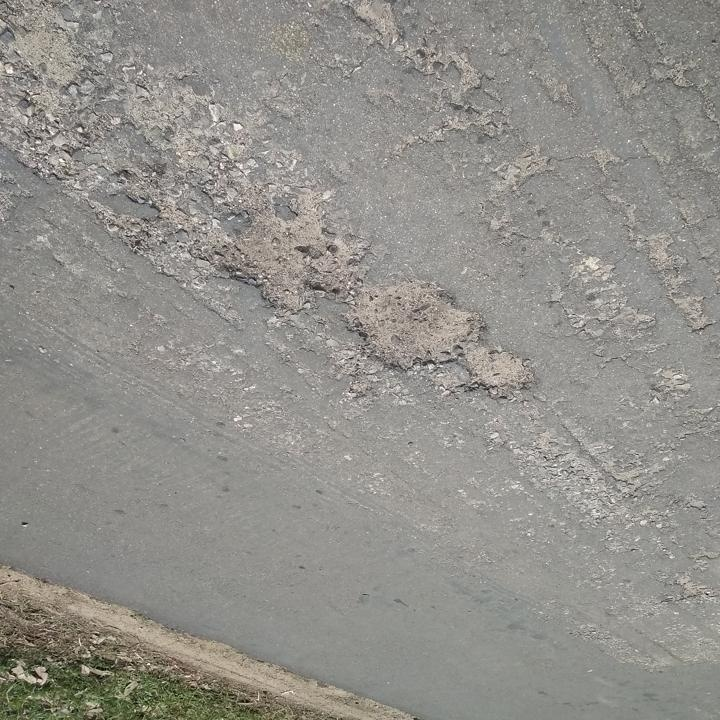pothole: (204, 196, 364, 321), (337, 278, 485, 376), (457, 345, 538, 401)
